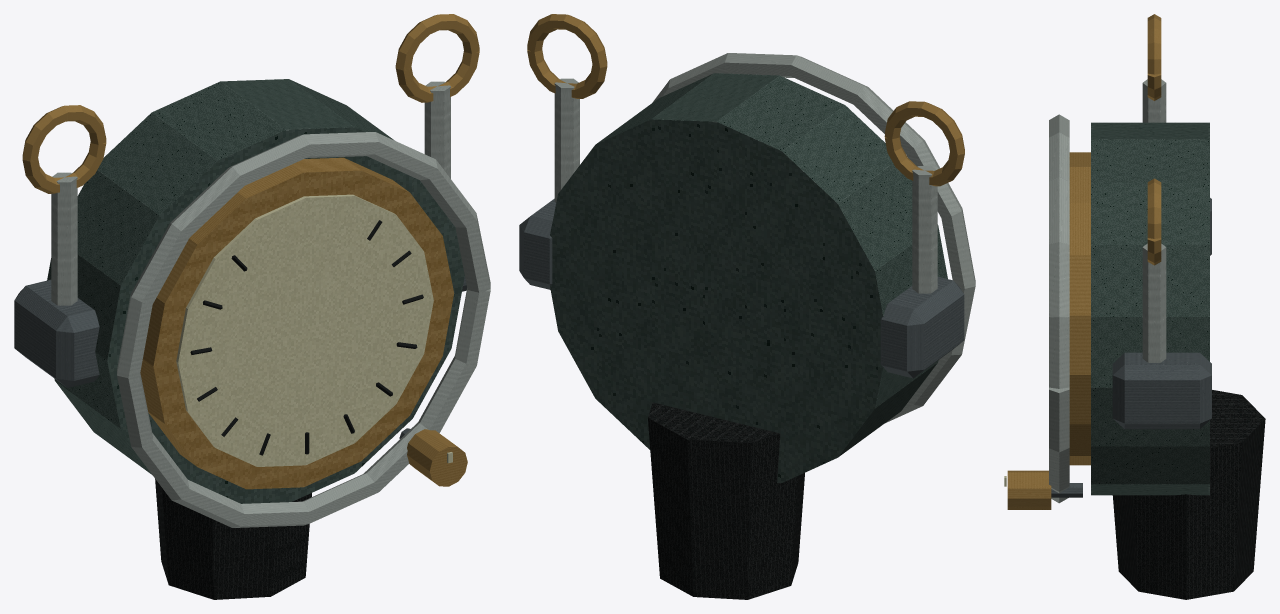
The model's file is blender_anchor_triangulator_1.glb.
The picture shows the model from 3 angles, left to right: view 1: azimuth 30°, elevation 25°; view 2: azimuth 150°, elevation 25°; view 3: azimuth 270°, elevation 25°; orthographic projection. The views are drawn at different scales.
Parts seen in each view (by area): view 1: blender_anchor_triangulator_1; view 2: blender_anchor_triangulator_1; view 3: blender_anchor_triangulator_1.
Boxes of the visible parts, box(x1,y1,x2,y2) form: blender_anchor_triangulator_1: box(14, 14, 490, 599); blender_anchor_triangulator_1: box(519, 14, 975, 599); blender_anchor_triangulator_1: box(1004, 14, 1265, 599).
Size of the model in its own units: 0.12 by 0.131 by 0.0658.
Materials: 7 (7 with a texture image).
